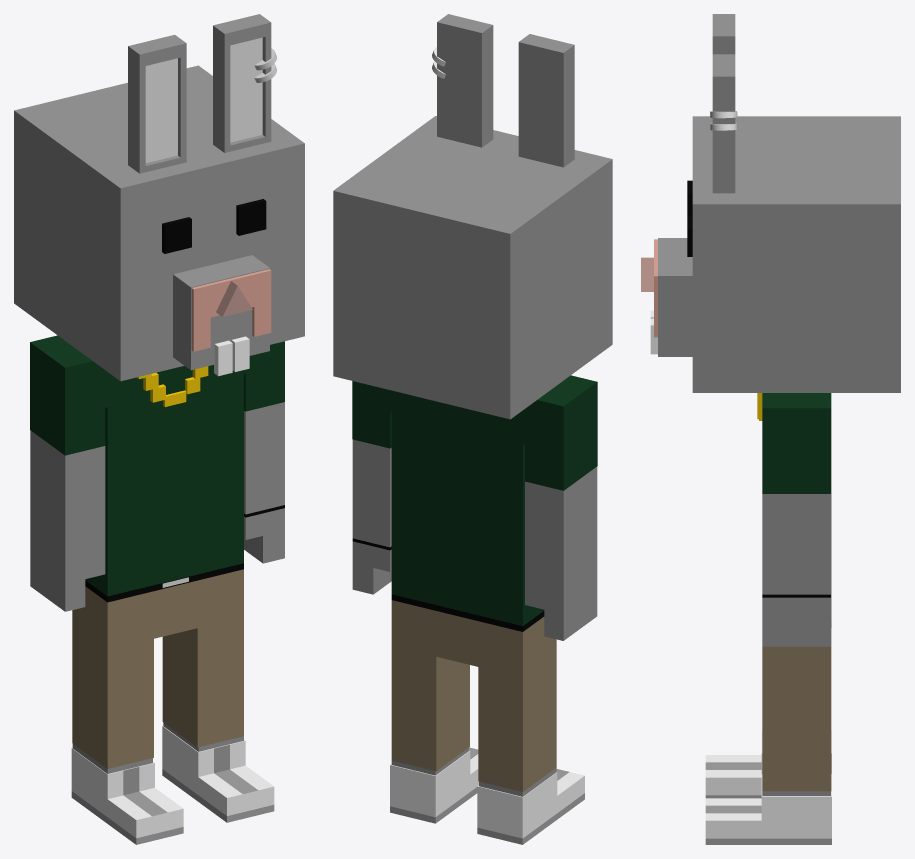
File: RABBIT.glb
3 renders of one model, left to right at view 1: azimuth 30°, elevation 25°; view 2: azimuth 150°, elevation 25°; view 3: azimuth 270°, elevation 25°, orthographic. The views are drawn at different scales.
Visible parts, largest first — view 1: KELINCI 2; view 2: KELINCI 2; view 3: KELINCI 2.
Boxes of the visible parts, bbox=[...] form: KELINCI 2: bbox=[14, 14, 304, 844]; KELINCI 2: bbox=[333, 14, 612, 844]; KELINCI 2: bbox=[641, 14, 900, 844].
Bounding box in the file's own units: 2.41 × 8.23 × 2.52.
